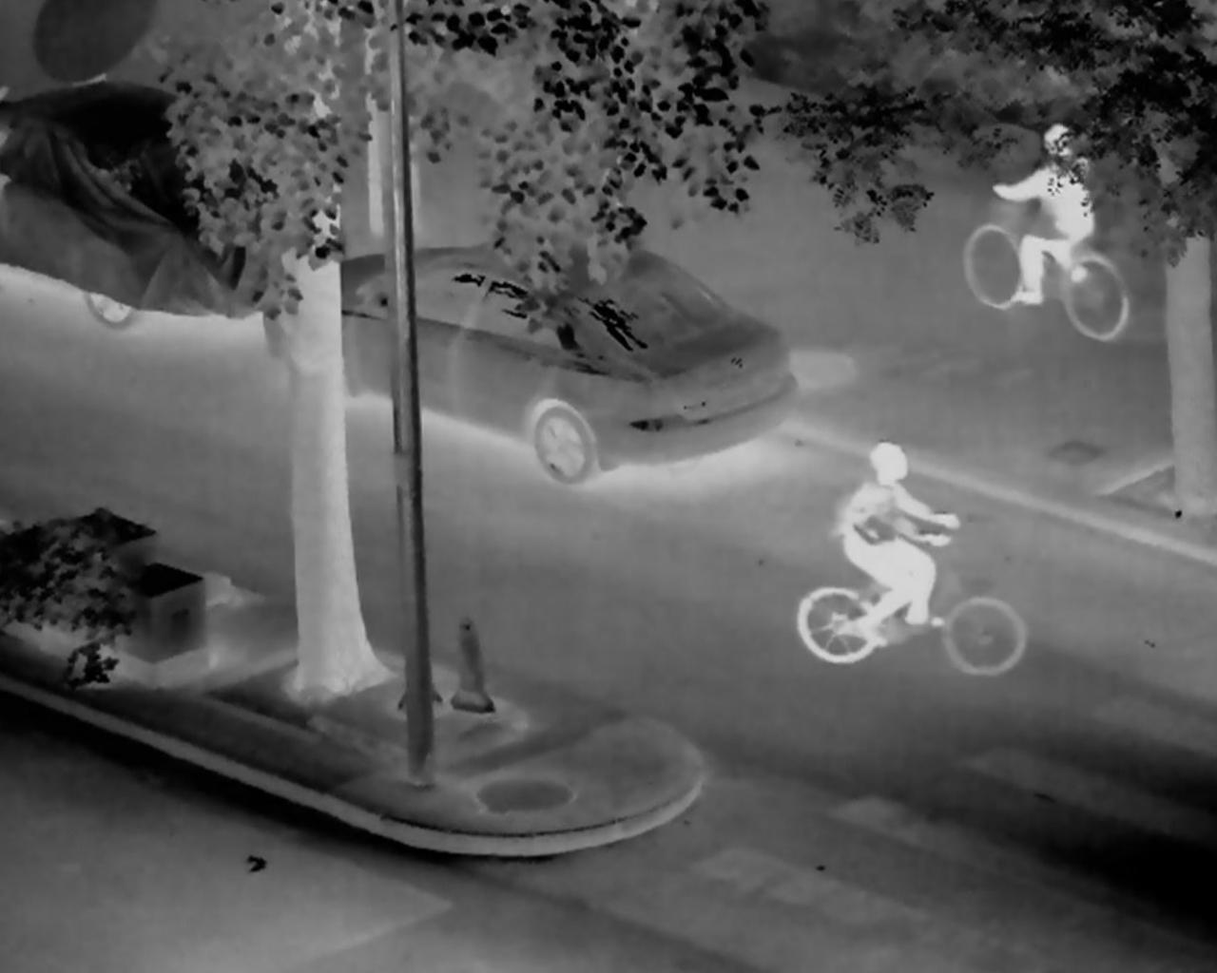person: (840, 443, 956, 642), (995, 127, 1094, 302)
